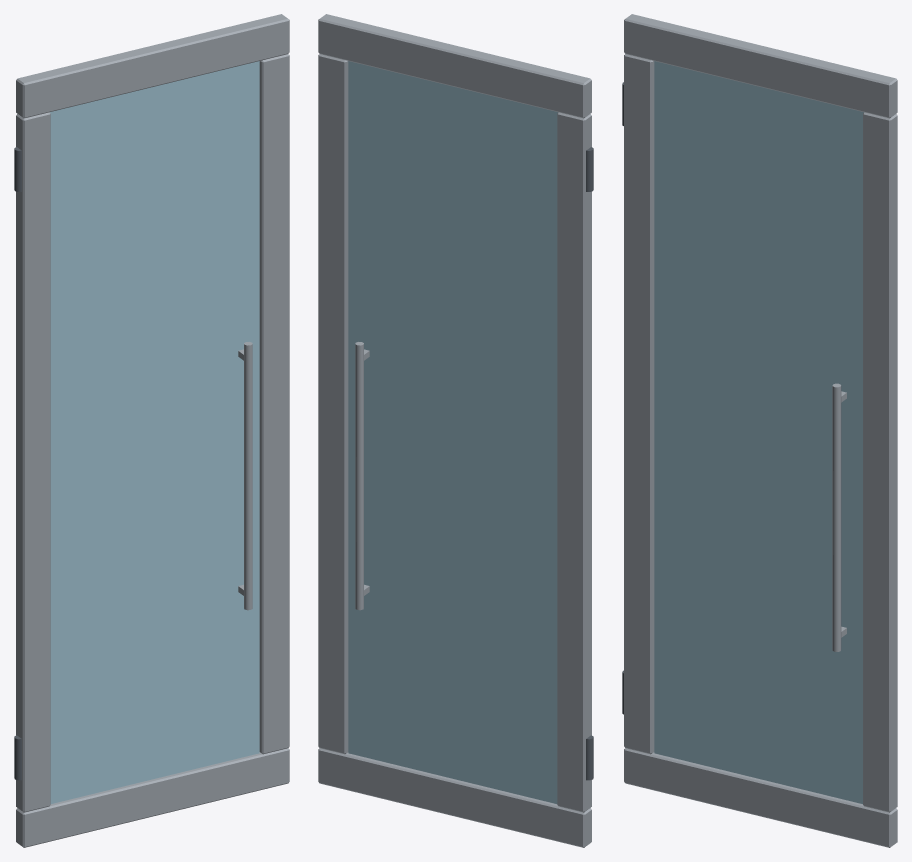
Rendered from door_glass_leaf.glb.
The picture shows the model from 3 angles, left to right: view 1: azimuth 30°, elevation 25°; view 2: azimuth 150°, elevation 25°; view 3: azimuth 330°, elevation 25°; orthographic projection.
Parts seen in each view (by area): view 1: door_glass_leaf; view 2: door_glass_leaf; view 3: door_glass_leaf.
Boxes of the visible parts, x1,y1,x2,y2 form: door_glass_leaf: (14, 14, 289, 847); door_glass_leaf: (318, 14, 593, 847); door_glass_leaf: (622, 14, 897, 847).
Size of the model in its own units: 0.966 by 2.6 by 0.148.
